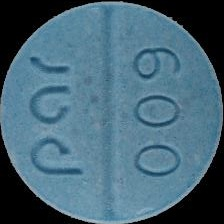0615-7584: (0, 0, 224, 224)
